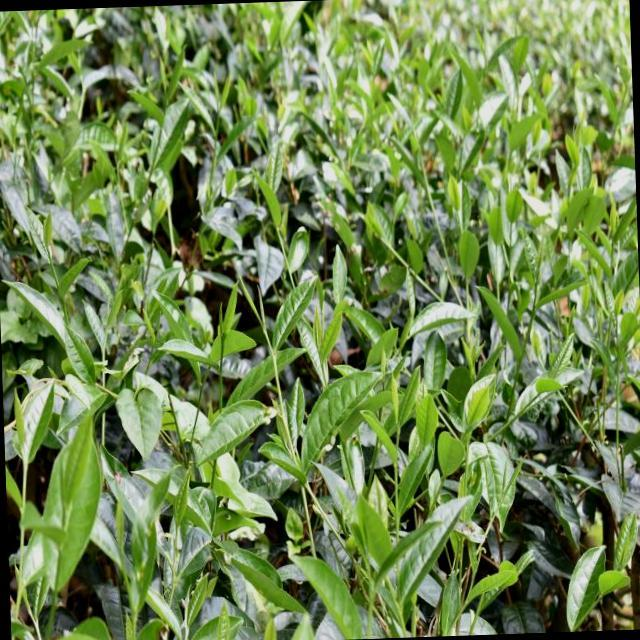Stem: (221, 336, 226, 341), (262, 326, 266, 331), (534, 283, 539, 287), (397, 427, 401, 431)
